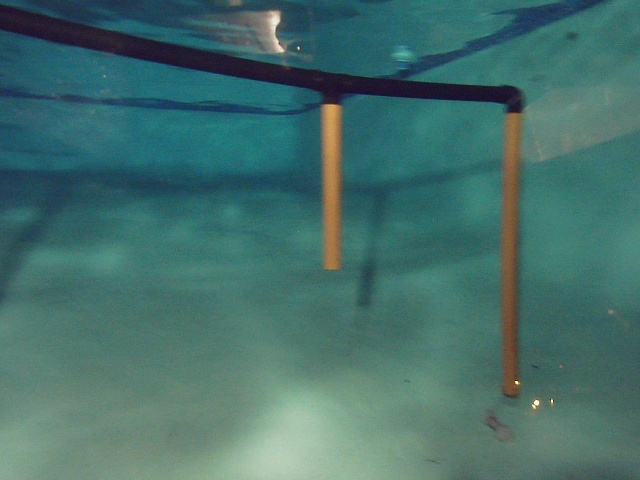Gate: (499, 110, 528, 397), (322, 104, 345, 272)
